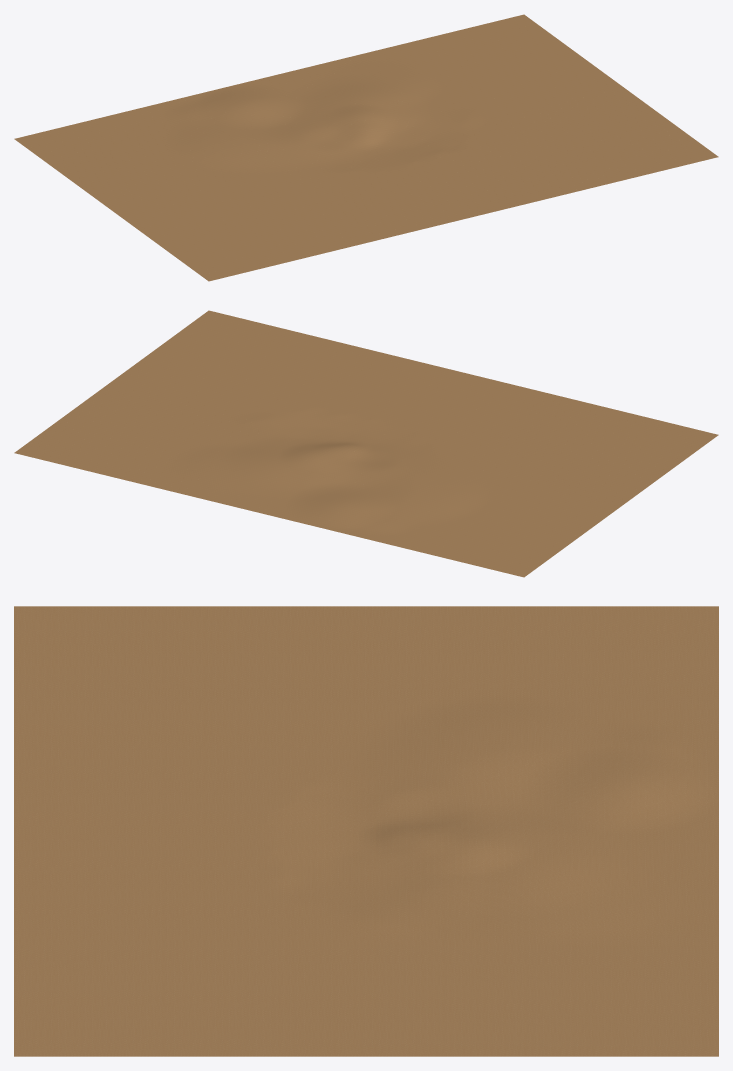
File: Ground.glb
3 views of the same model, one above another, from view 1: azimuth 30°, elevation 25°; view 2: azimuth 150°, elevation 25°; view 3: azimuth 270°, elevation 25° (orthographic). The views are drawn at different scales.
Visible parts, largest first — view 1: ground.001; view 2: ground.001; view 3: ground.001.
Boxes of the visible parts, x1,y1,x2,y2 form: ground.001: [14, 14, 718, 281]; ground.001: [14, 310, 718, 577]; ground.001: [14, 606, 718, 1056].
Size of the model in its own units: 127 by 1.4 by 83.7.
Materials: 1 (1 with a texture image).
